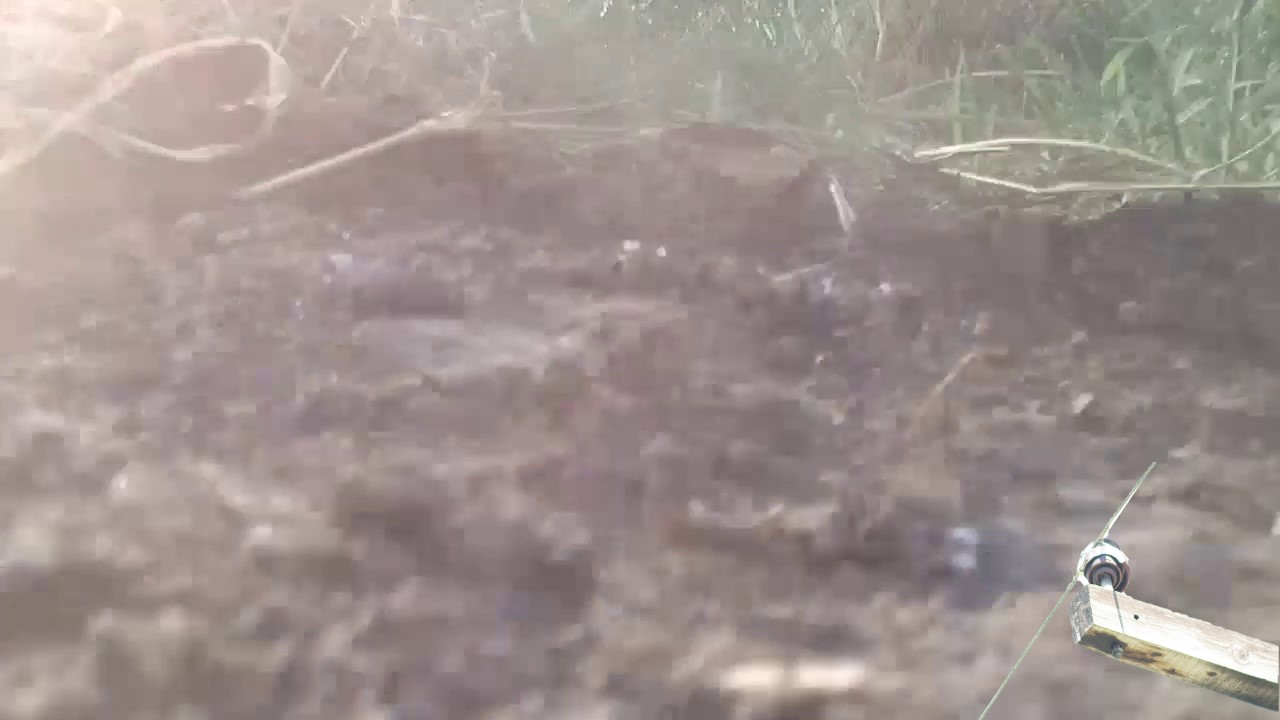defect_pin: (1074, 534, 1137, 593)
